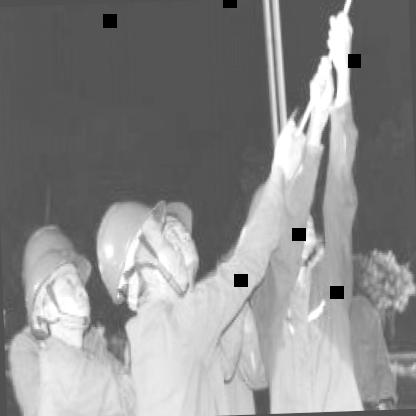helmet: (98, 200, 184, 318), (16, 221, 91, 352), (147, 199, 203, 289)
